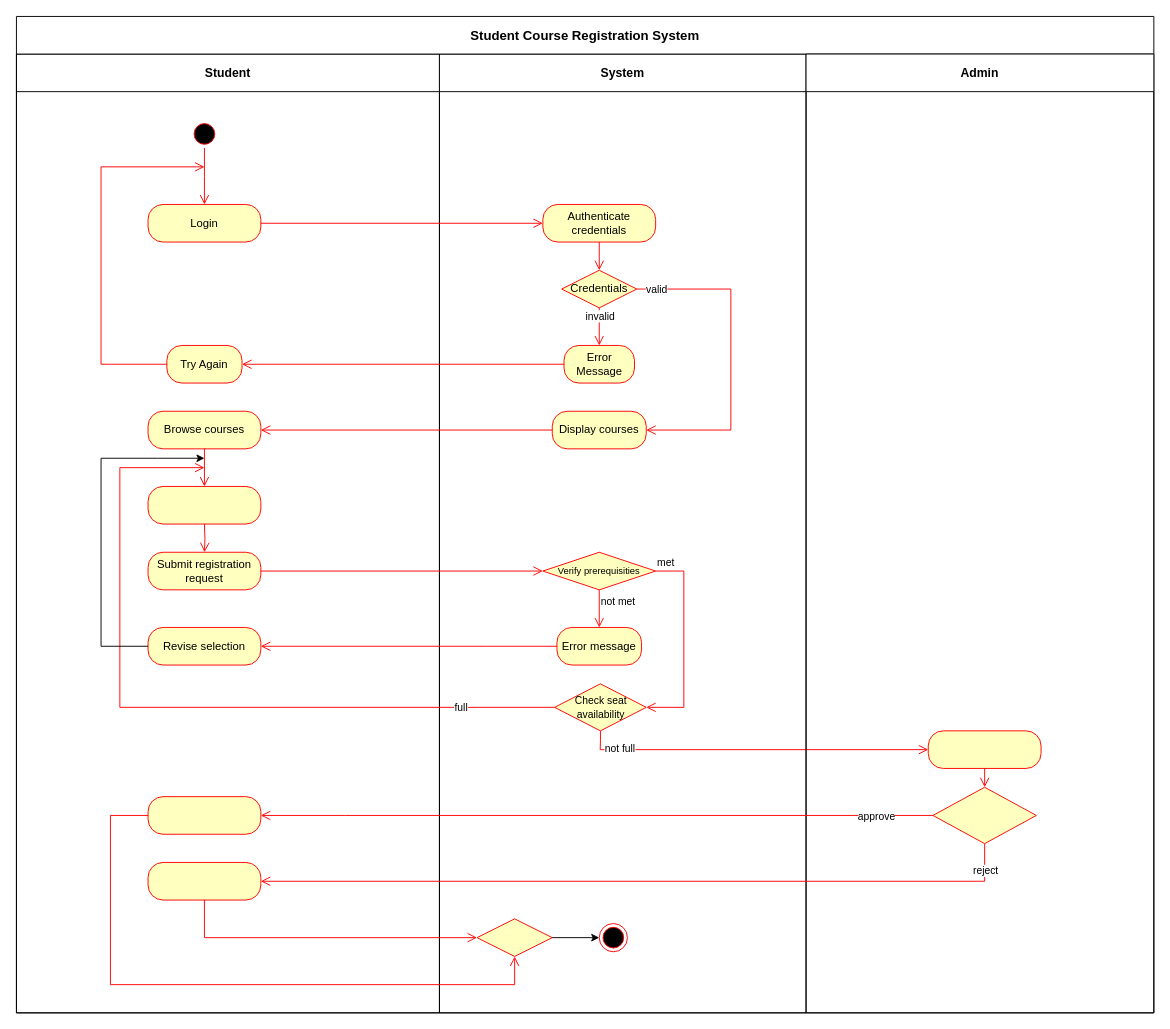
The diagram is 1170 pixels wide and 1029 high, and some of its shapes have lost their labels. The centre of each missing label's shape, as x and y in pixels:
approve / reject: the point at 984,815
confirm registration: the point at 204,815
reject registration: the point at 204,881
Review registration details: the point at 984,749
Select courses: the point at 204,505
